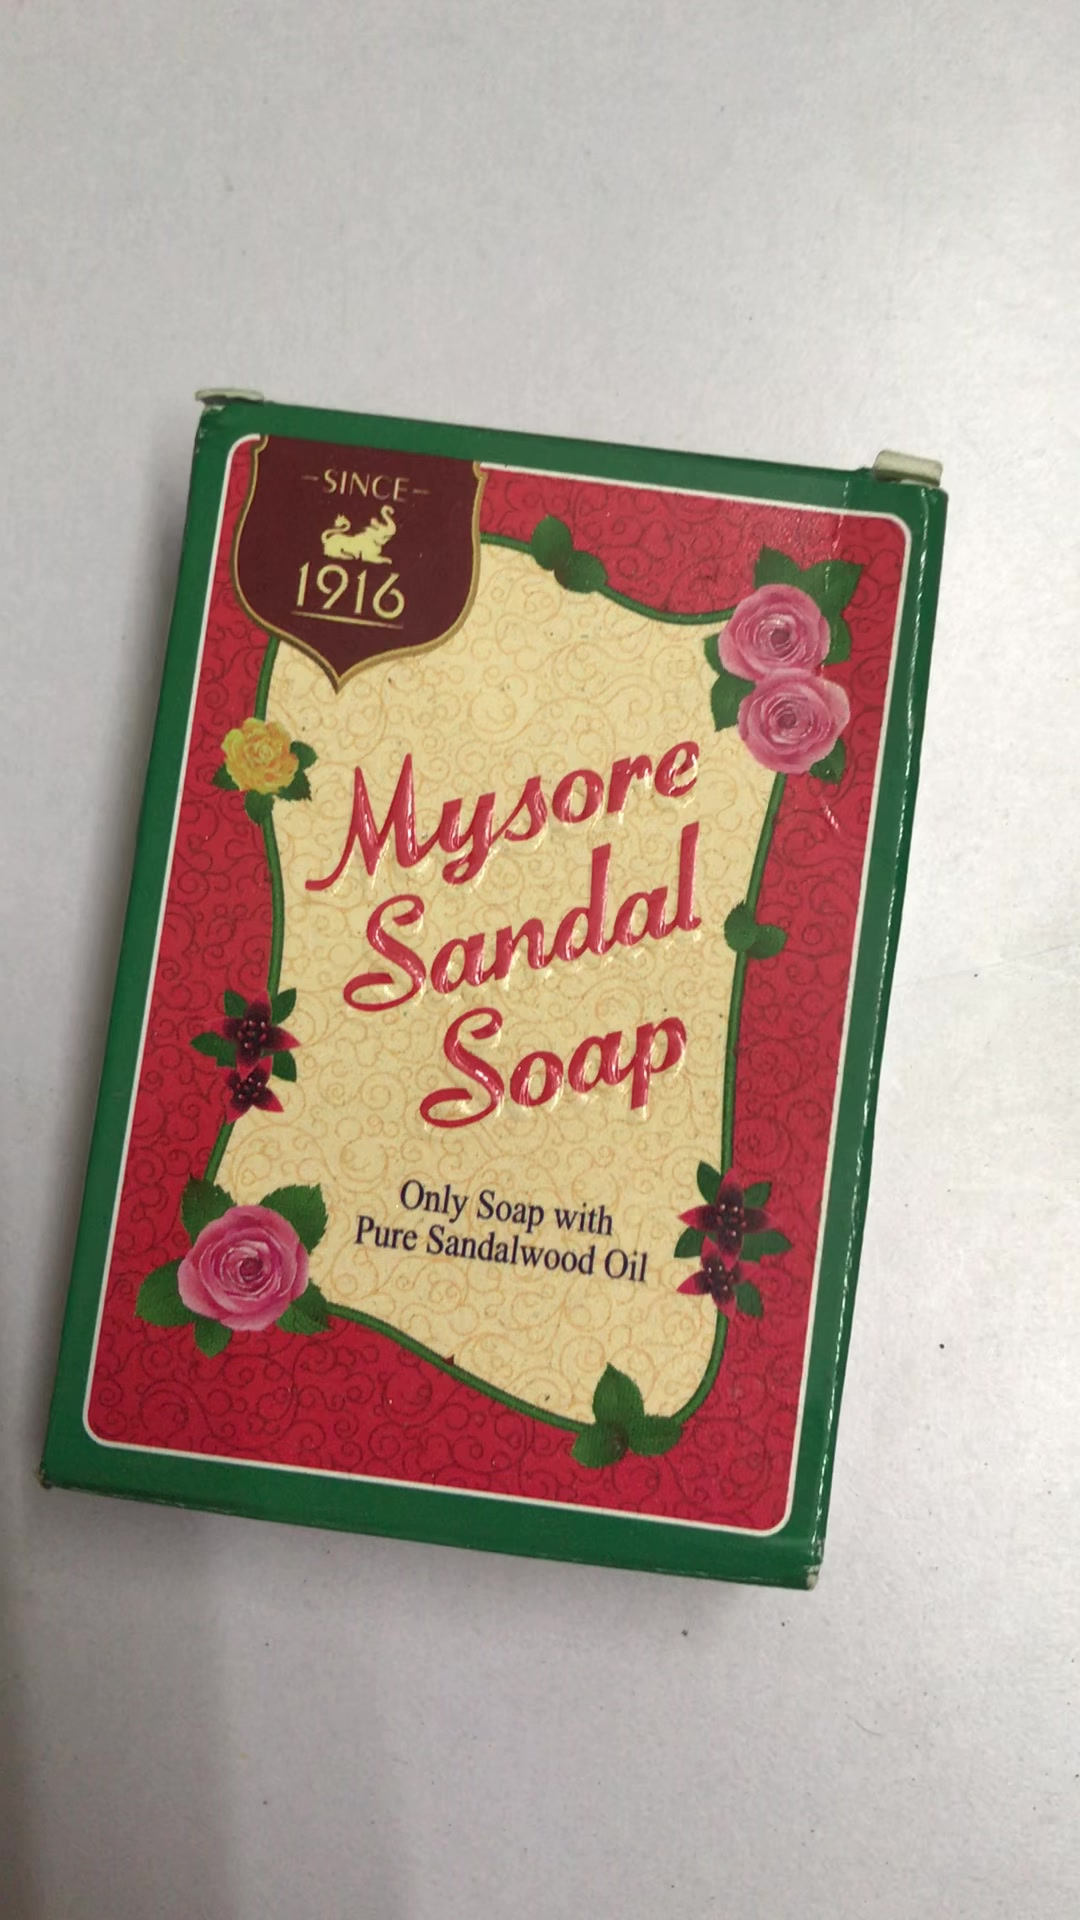mysore sandal soap: (47, 400, 945, 1588)
